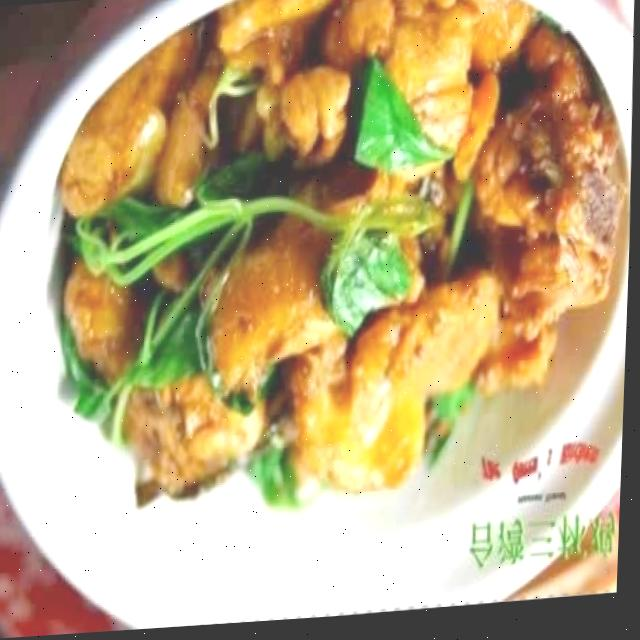鸡肉料理 含炸鸡: (25, 0, 629, 615)
